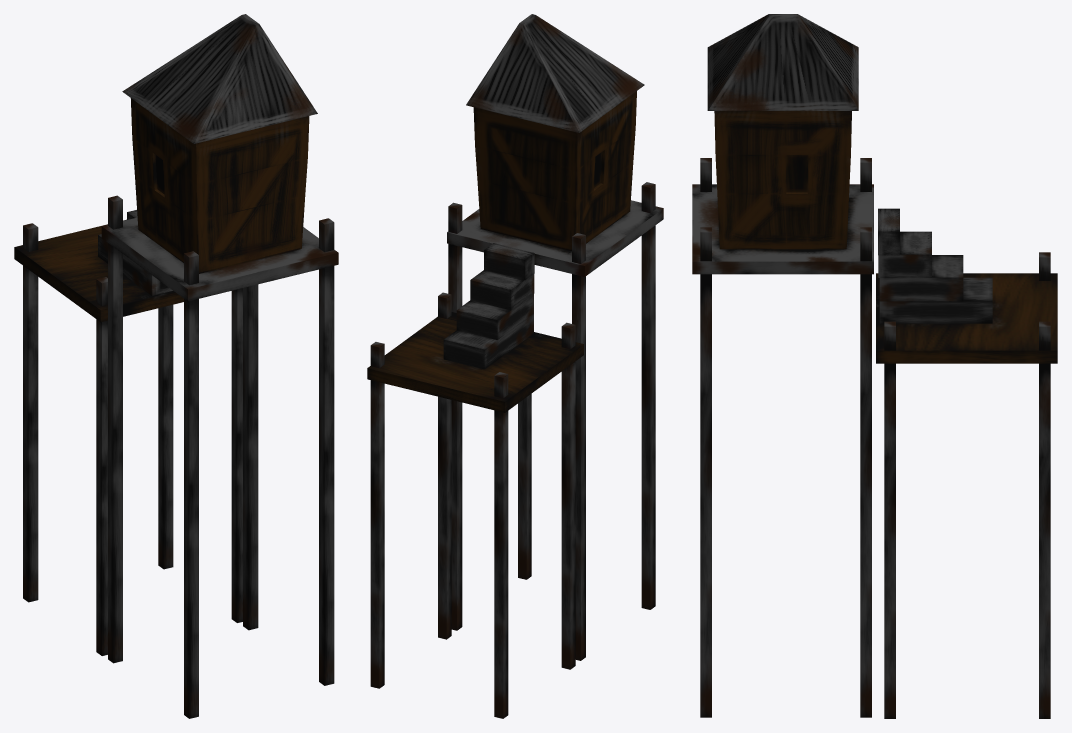
Rendered from Archer Tower.fbx.
3 views of the same model, side by side, from view 1: azimuth 30°, elevation 25°; view 2: azimuth 150°, elevation 25°; view 3: azimuth 270°, elevation 25° (orthographic). The views are drawn at different scales.
Visible parts, largest first — view 1: archerTower_geo; view 2: archerTower_geo; view 3: archerTower_geo.
Boxes of the visible parts, <box> form: archerTower_geo: <box>14,14,338,718</box>; archerTower_geo: <box>367,14,663,718</box>; archerTower_geo: <box>692,14,1057,718</box>.
Size of the model in its own units: 66.51 by 273 by 133.
